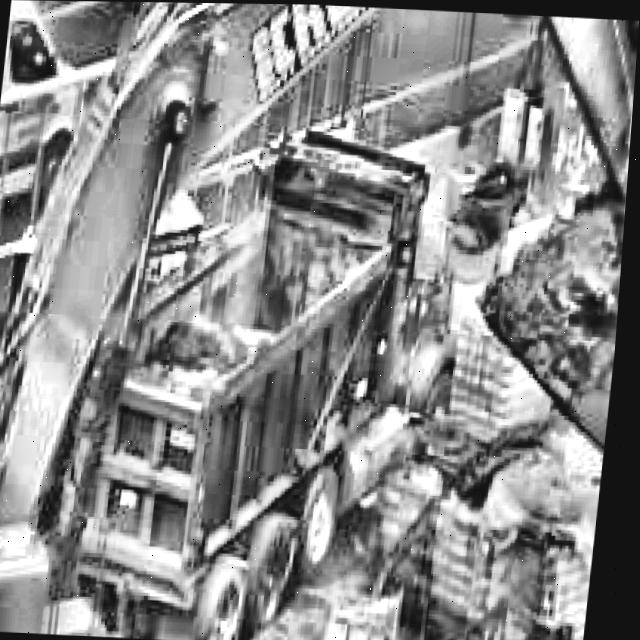dump_truck: (50, 110, 481, 640)
excavator: (0, 0, 640, 640)
